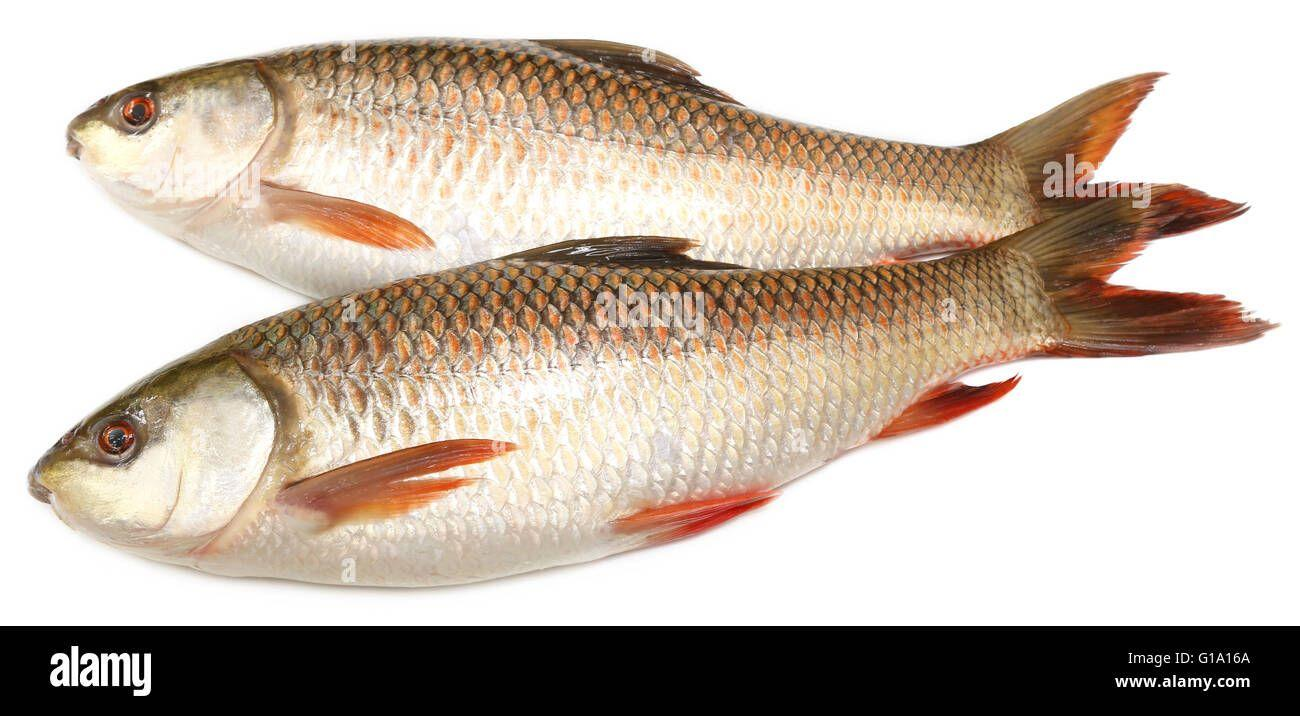Indian Carp: (25, 182, 1269, 588), (65, 24, 1248, 302)
